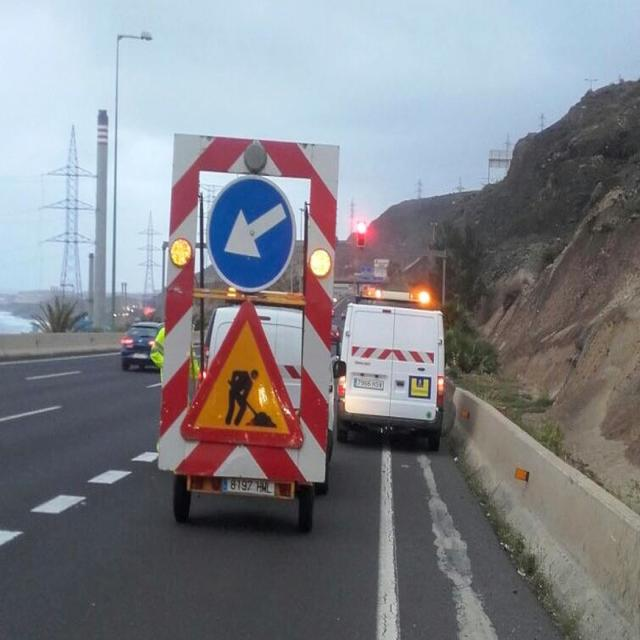light_vehicle: (337, 287, 481, 462)
